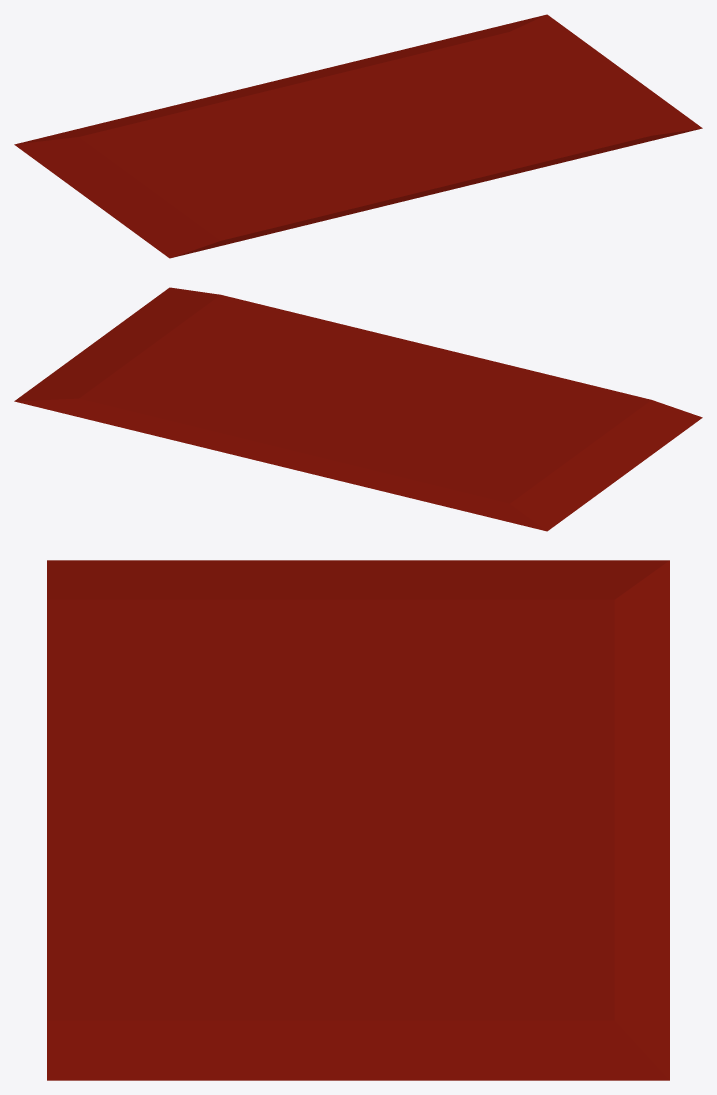
File: switch_end.gltf
The picture shows the model from 3 angles, top to bottom: view 1: azimuth 30°, elevation 25°; view 2: azimuth 150°, elevation 25°; view 3: azimuth 270°, elevation 25°; orthographic projection. The views are drawn at different scales.
Parts seen in each view (by area): view 1: switch.end; view 2: switch.end; view 3: switch.end.
Boxes of the visible parts, left/top/right/bottom form: switch.end: left=14, top=14, right=702, bottom=258; switch.end: left=14, top=287, right=702, bottom=531; switch.end: left=47, top=560, right=669, bottom=1080.
Bounding box in the file's own units: 8.06 × 0.0751 × 4.07.
